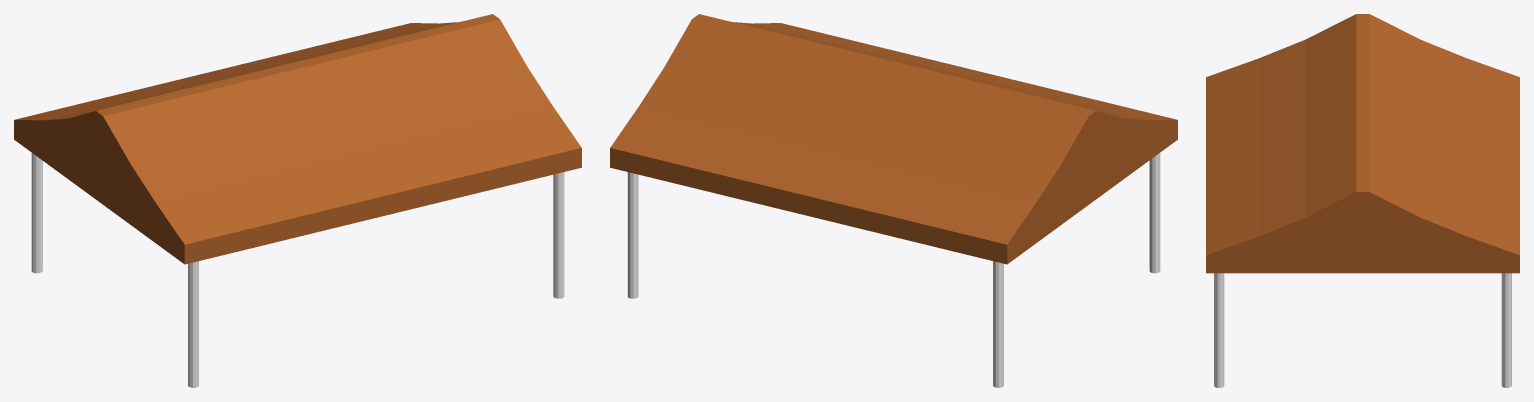
Rendered from tent-by-zsky-9khegYRslI.glb.
3 views of the same model, side by side, from view 1: azimuth 30°, elevation 25°; view 2: azimuth 150°, elevation 25°; view 3: azimuth 270°, elevation 25° (orthographic). The views are drawn at different scales.
Parts seen in each view (by area): view 1: Tent02_Cylinder.002; view 2: Tent02_Cylinder.002; view 3: Tent02_Cylinder.002.
Boxes of the visible parts, x1,y1,x2,y2 form: Tent02_Cylinder.002: (14,14,581,387); Tent02_Cylinder.002: (610,14,1177,387); Tent02_Cylinder.002: (1206,14,1519,387).
Bounding box in the file's own units: 67.37 × 35.45 × 50.15.
